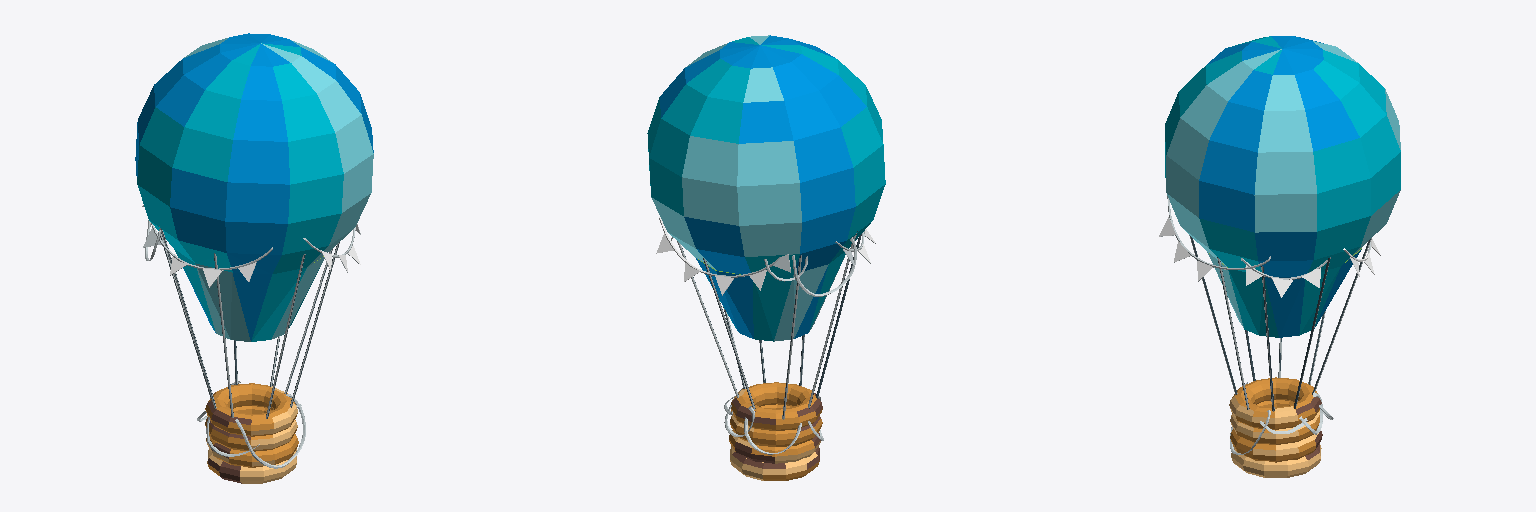
3 renders of one model, left to right at view 1: azimuth 30°, elevation 25°; view 2: azimuth 150°, elevation 25°; view 3: azimuth 270°, elevation 25°, orthographic.
Parts seen in each view (by area): view 1: group[number redacted], group[number redacted], group[number redacted], group[number redacted], group[number redacted], group[number redacted]; view 2: group[number redacted], group[number redacted], group[number redacted], group[number redacted], group[number redacted], group[number redacted]; view 3: group[number redacted], group[number redacted], group[number redacted], group[number redacted], group[number redacted], group[number redacted].
Part boxes in pixels (x1,y1,x2,y2): group[number redacted]: (135, 33, 373, 273); group[number redacted]: (174, 249, 324, 341); group[number redacted]: (205, 383, 297, 436); group[number redacted]: (205, 406, 297, 451); group[number redacted]: (207, 449, 296, 483); group[number redacted]: (206, 434, 298, 467); group[number redacted]: (647, 35, 885, 275); group[number redacted]: (696, 252, 845, 341); group[number redacted]: (731, 382, 822, 430); group[number redacted]: (730, 446, 819, 480); group[number redacted]: (730, 404, 822, 446); group[number redacted]: (729, 430, 820, 463); group[number redacted]: (1165, 36, 1400, 276); group[number redacted]: (1207, 248, 1361, 337); group[number redacted]: (1229, 377, 1321, 429); group[number redacted]: (1230, 429, 1322, 462); group[number redacted]: (1231, 443, 1321, 477); group[number redacted]: (1230, 400, 1319, 444).
Size of the model in its own units: 1.84 by 3.58 by 1.87.